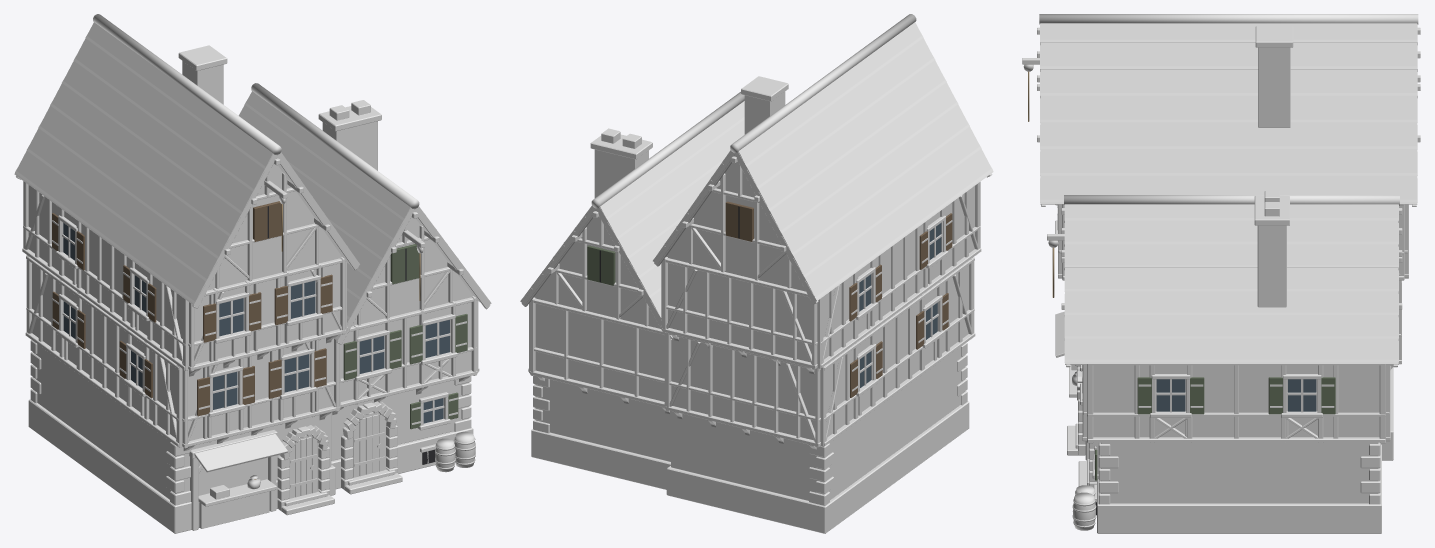
Rendered from ville_09_collees_deux_pignons.fbx.
3 renders of one model, left to right at view 1: azimuth 30°, elevation 25°; view 2: azimuth 150°, elevation 25°; view 3: azimuth 270°, elevation 25°, orthographic. The views are drawn at different scales.
Parts seen in each view (by area): view 1: ville_09_collees_deux_pignons_LOD0; view 2: ville_09_collees_deux_pignons_LOD0; view 3: ville_09_collees_deux_pignons_LOD0.
Part boxes in pixels (x1,y1,x2,y2): ville_09_collees_deux_pignons_LOD0: (14,14,491,533); ville_09_collees_deux_pignons_LOD0: (520,14,993,533); ville_09_collees_deux_pignons_LOD0: (1022,14,1420,533).
Size of what is drawn, in the model's own units: 9.78 by 11.57 by 10.32.
